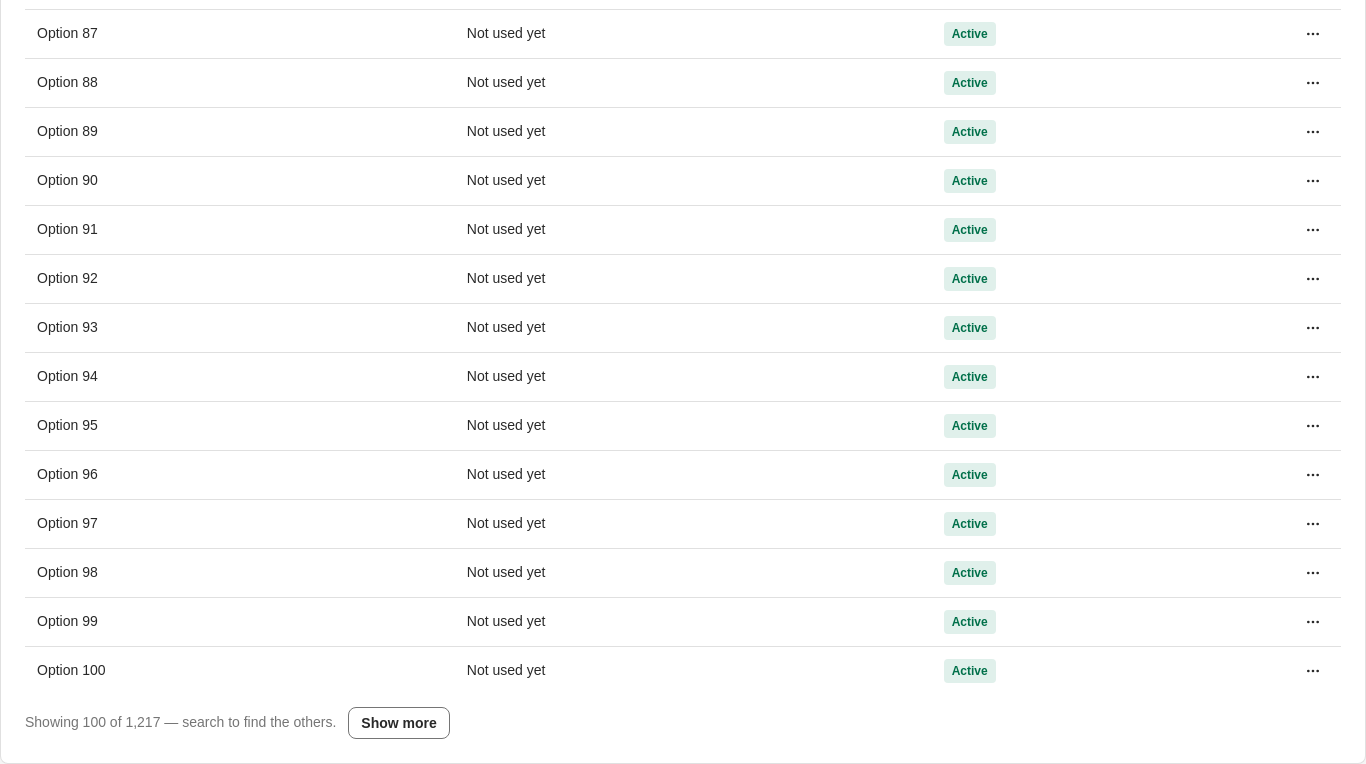
Test: OptionsCard (FR-018, FR-020, SC-007) › shows 100 more options at a time with Show more
(page scrolled)
What coordinates should you click on to do the following:
click the button "Show more"
I would click on:
 (399, 722)
Its box is [348,706,450,738].
(page scrolled)
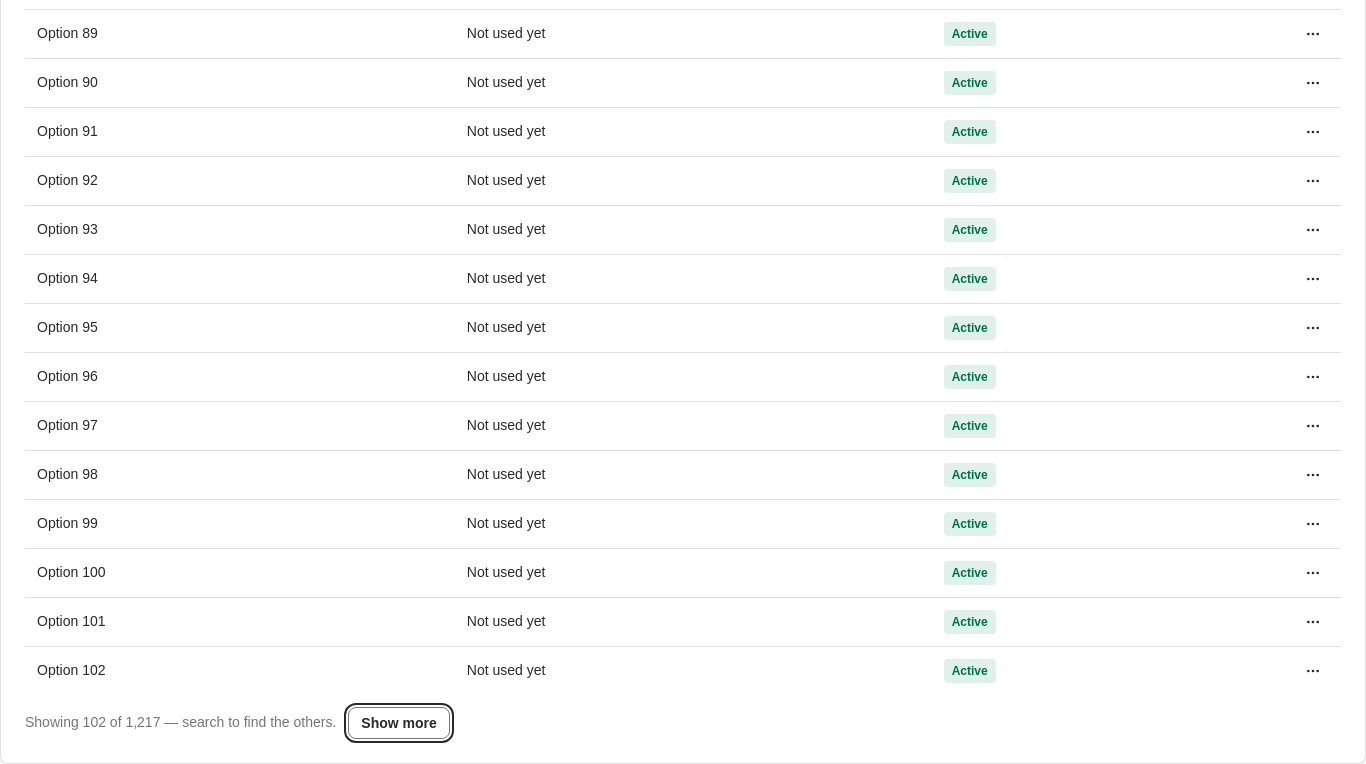
Expected: the text "Showing 102 of 1,217 — search to find the others." is shown, [25,712,336,733]
Expected: the column heading "Option 102" is shown, [25,646,455,694]
